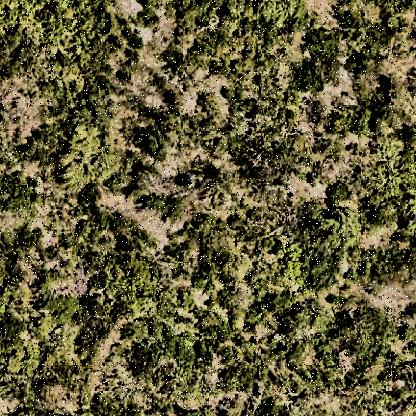tree-top: (302, 199, 362, 298), (55, 113, 123, 195), (225, 3, 317, 27)
